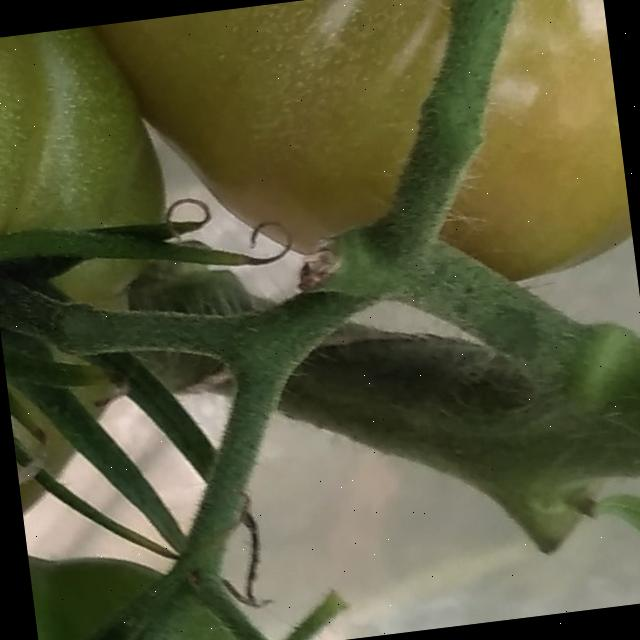tomato: (0, 17, 240, 640)
